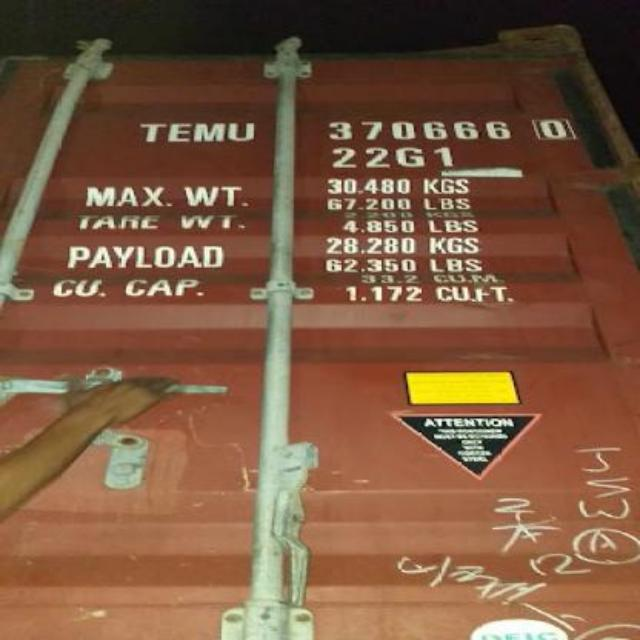0: (536, 118, 574, 138), (388, 118, 418, 142)
3: (326, 118, 356, 142)
6: (418, 118, 452, 142), (482, 118, 516, 142), (450, 118, 482, 140)
7: (356, 118, 386, 142)
E: (164, 118, 194, 142)
M: (192, 119, 228, 143)
T: (132, 121, 166, 142)
U: (228, 117, 258, 143)
